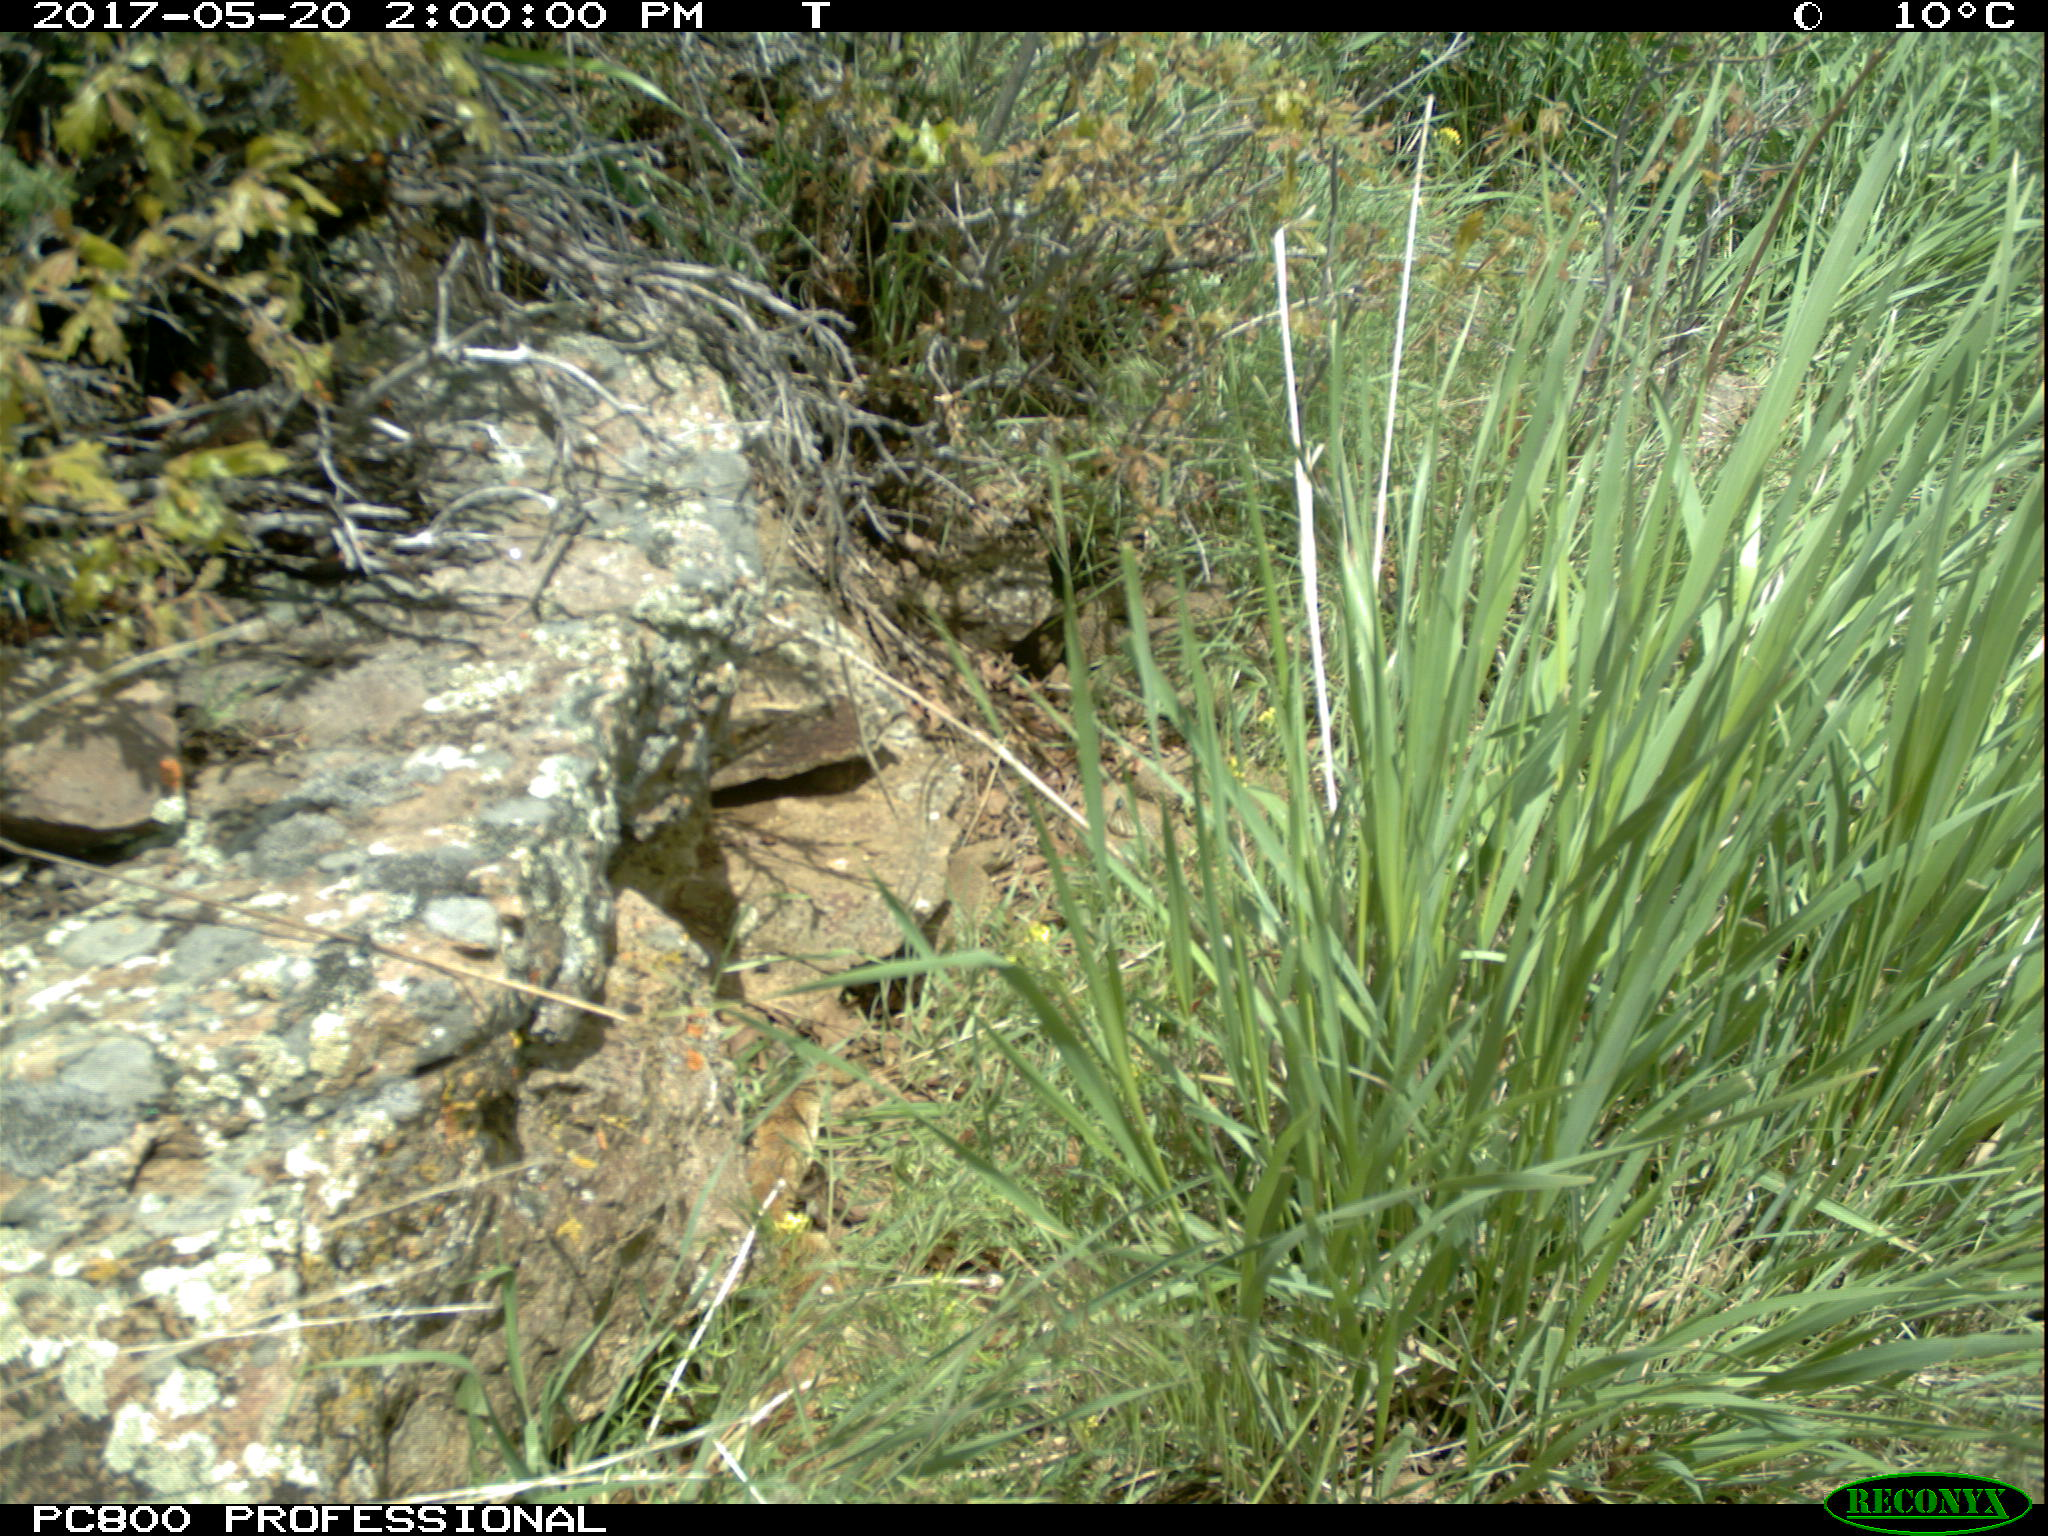snake: (743, 1060, 830, 1258), (940, 836, 1013, 942)
